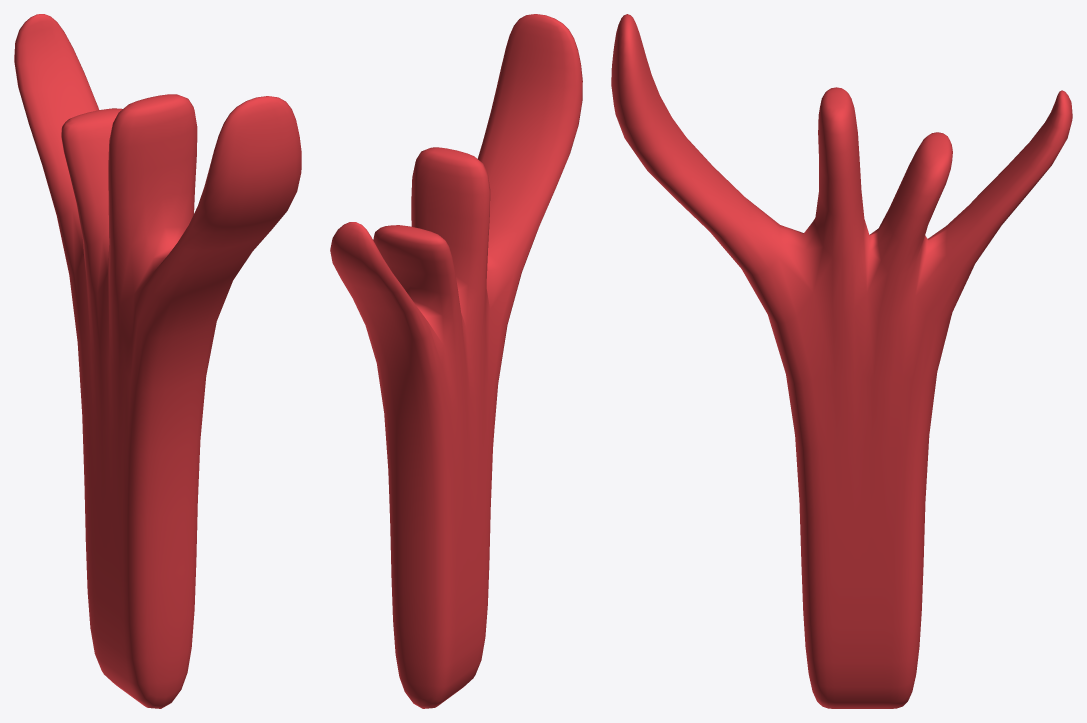
The model's file is Trichoderma cornu-damae.fbx.
The picture shows the model from 3 angles, left to right: view 1: azimuth 30°, elevation 25°; view 2: azimuth 150°, elevation 25°; view 3: azimuth 270°, elevation 25°; orthographic projection. The views are drawn at different scales.
Visible parts, largest first — view 1: Cube; view 2: Cube; view 3: Cube.
Boxes of the visible parts, bbox=[...] form: Cube: bbox=[14, 14, 301, 708]; Cube: bbox=[330, 14, 582, 708]; Cube: bbox=[611, 14, 1072, 708].
Size of the model in its own units: 26.57 by 182 by 111.
